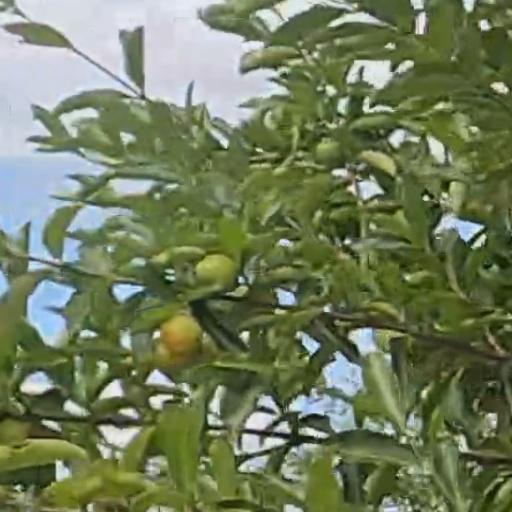acerola_vermelha: (159, 313, 202, 357)
